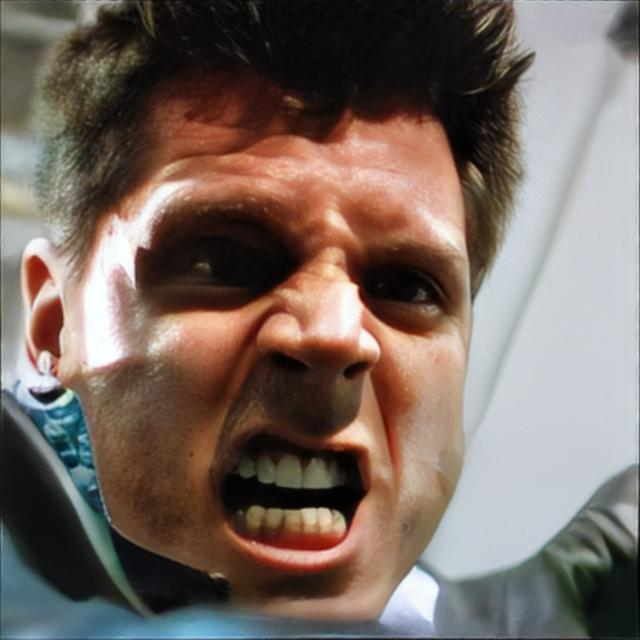anger: (76, 83, 478, 624)
